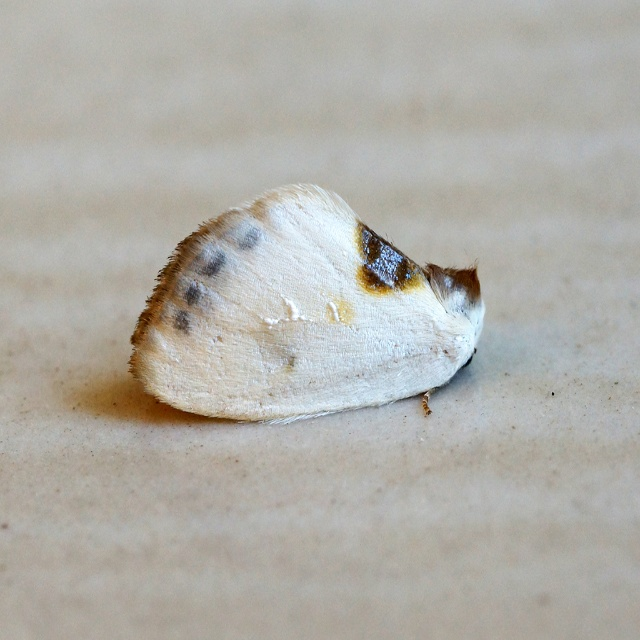Moths and butterflies: (125, 182, 488, 419)
